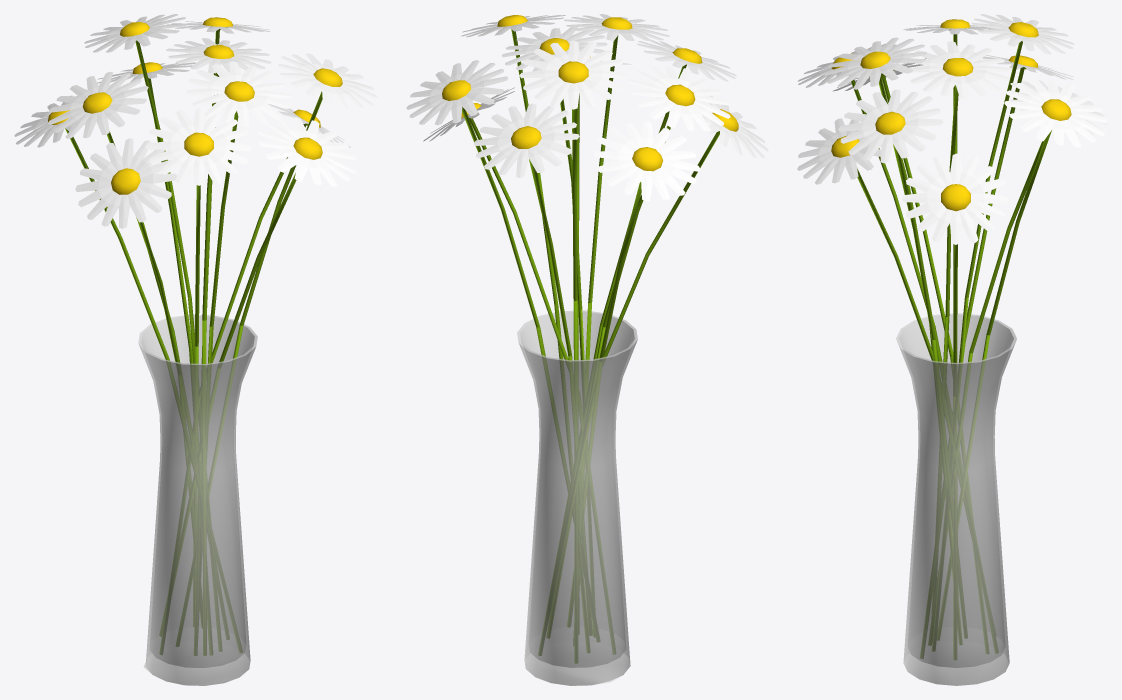
The model's file is florero.glb.
3 renders of one model, left to right at view 1: azimuth 30°, elevation 25°; view 2: azimuth 150°, elevation 25°; view 3: azimuth 270°, elevation 25°, orthographic.
Parts seen in each view (by area): view 1: florero; view 2: florero; view 3: florero.
Part boxes in pixels (x1,y1,x2,y2): florero: (14,14,377,685); florero: (406,14,768,685); florero: (797,14,1107,685).
Bounding box in the file's own units: 24.2 × 49.3 × 22.1.
